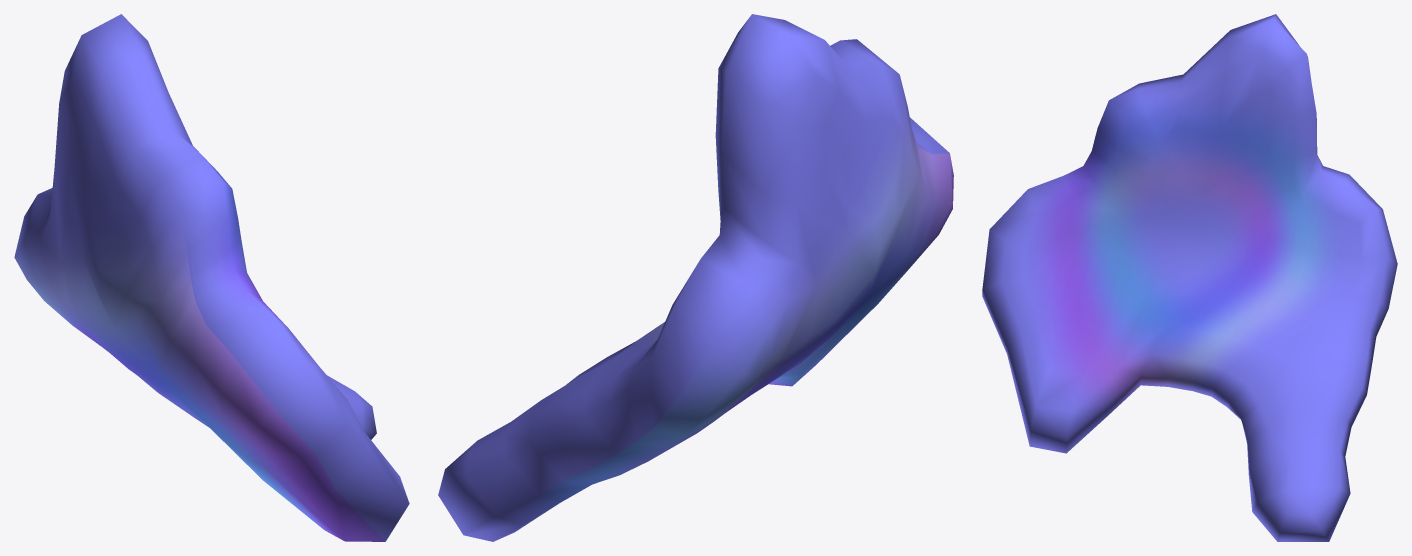
Rendered from p_mesh_trashbot_destruction_arenagoop03.fbx.
The picture shows the model from 3 angles, left to right: view 1: azimuth 30°, elevation 25°; view 2: azimuth 150°, elevation 25°; view 3: azimuth 270°, elevation 25°; orthographic projection. The views are drawn at different scales.
Visible parts, largest first — view 1: trashbot_destruction_goop3; view 2: trashbot_destruction_goop3; view 3: trashbot_destruction_goop3.
Boxes of the visible parts, left/top/right/bottom form: trashbot_destruction_goop3: left=14, top=14, right=409, bottom=541; trashbot_destruction_goop3: left=438, top=14, right=953, bottom=541; trashbot_destruction_goop3: left=982, top=14, right=1397, bottom=541.
Bounding box in the file's own units: 22 × 32.86 × 28.66.
